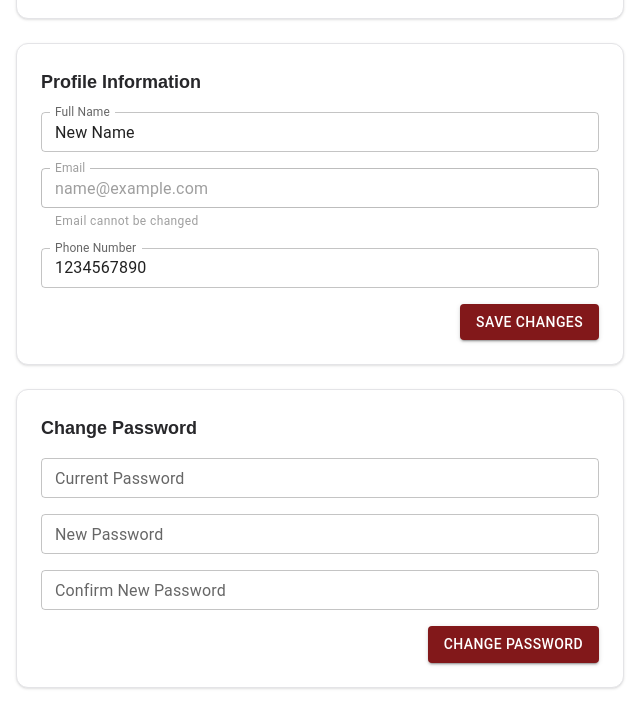
Test: Account Settings › submits change password form and clears inputs on success
(page scrolled)
In the password field labelled "Current Password": (320, 478) [41, 458, 599, 498], type "12345678"
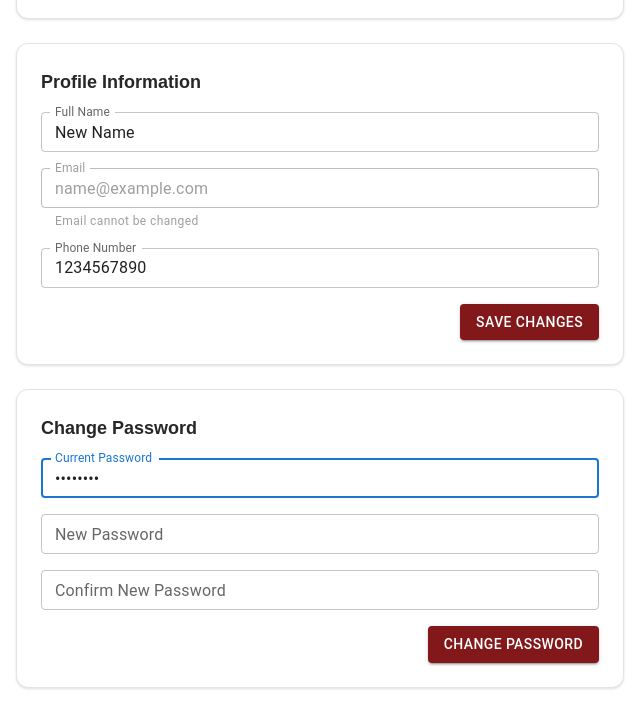
In the password field labelled "New Password": (320, 534) [41, 514, 599, 554], type "new_password"
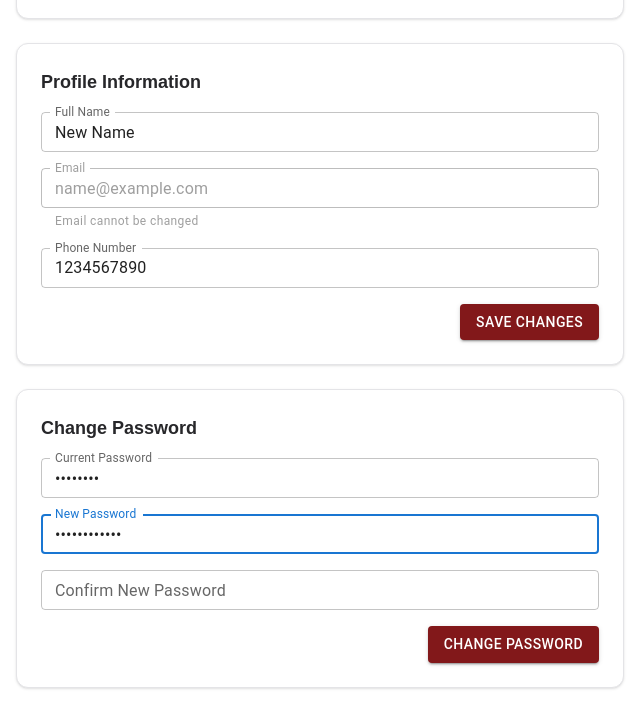
In the password field labelled "Confirm New Password": (320, 590) [41, 570, 599, 610], type "new_password"
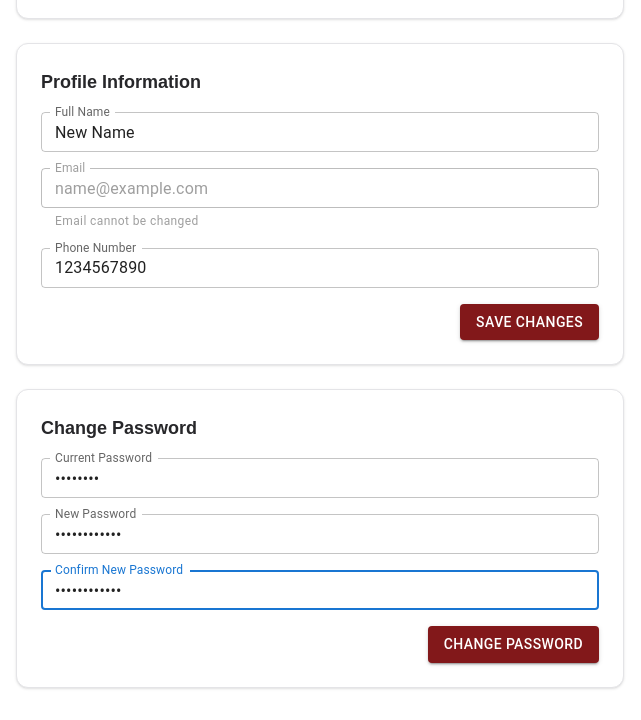
Click the button "Change Password": click(513, 645) [428, 626, 599, 663]
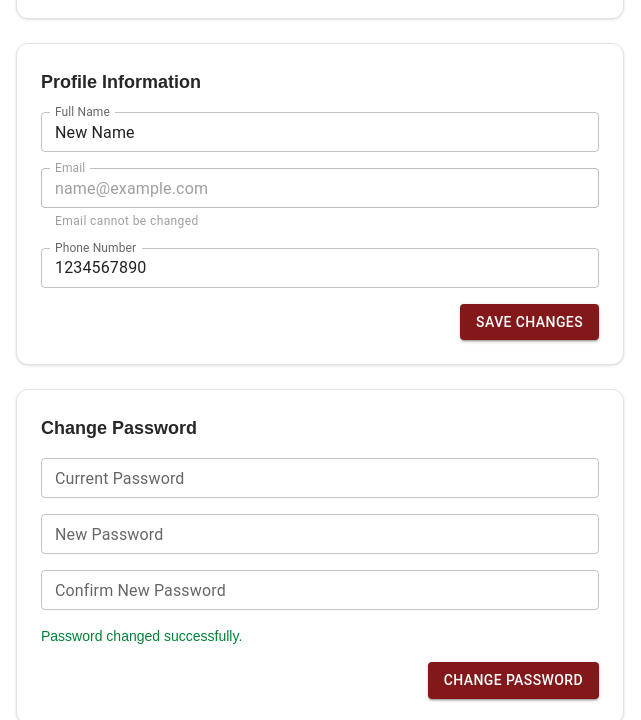
Check: the text "Password changed successfully." is shown, box [41, 628, 242, 644]
Check: the password field labelled "Current Password" is empty, box [41, 458, 599, 498]
Check: the password field labelled "New Password" is empty, box [41, 514, 599, 554]
